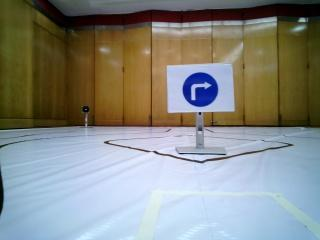right: (169, 65, 234, 110), (233, 148, 234, 148)
